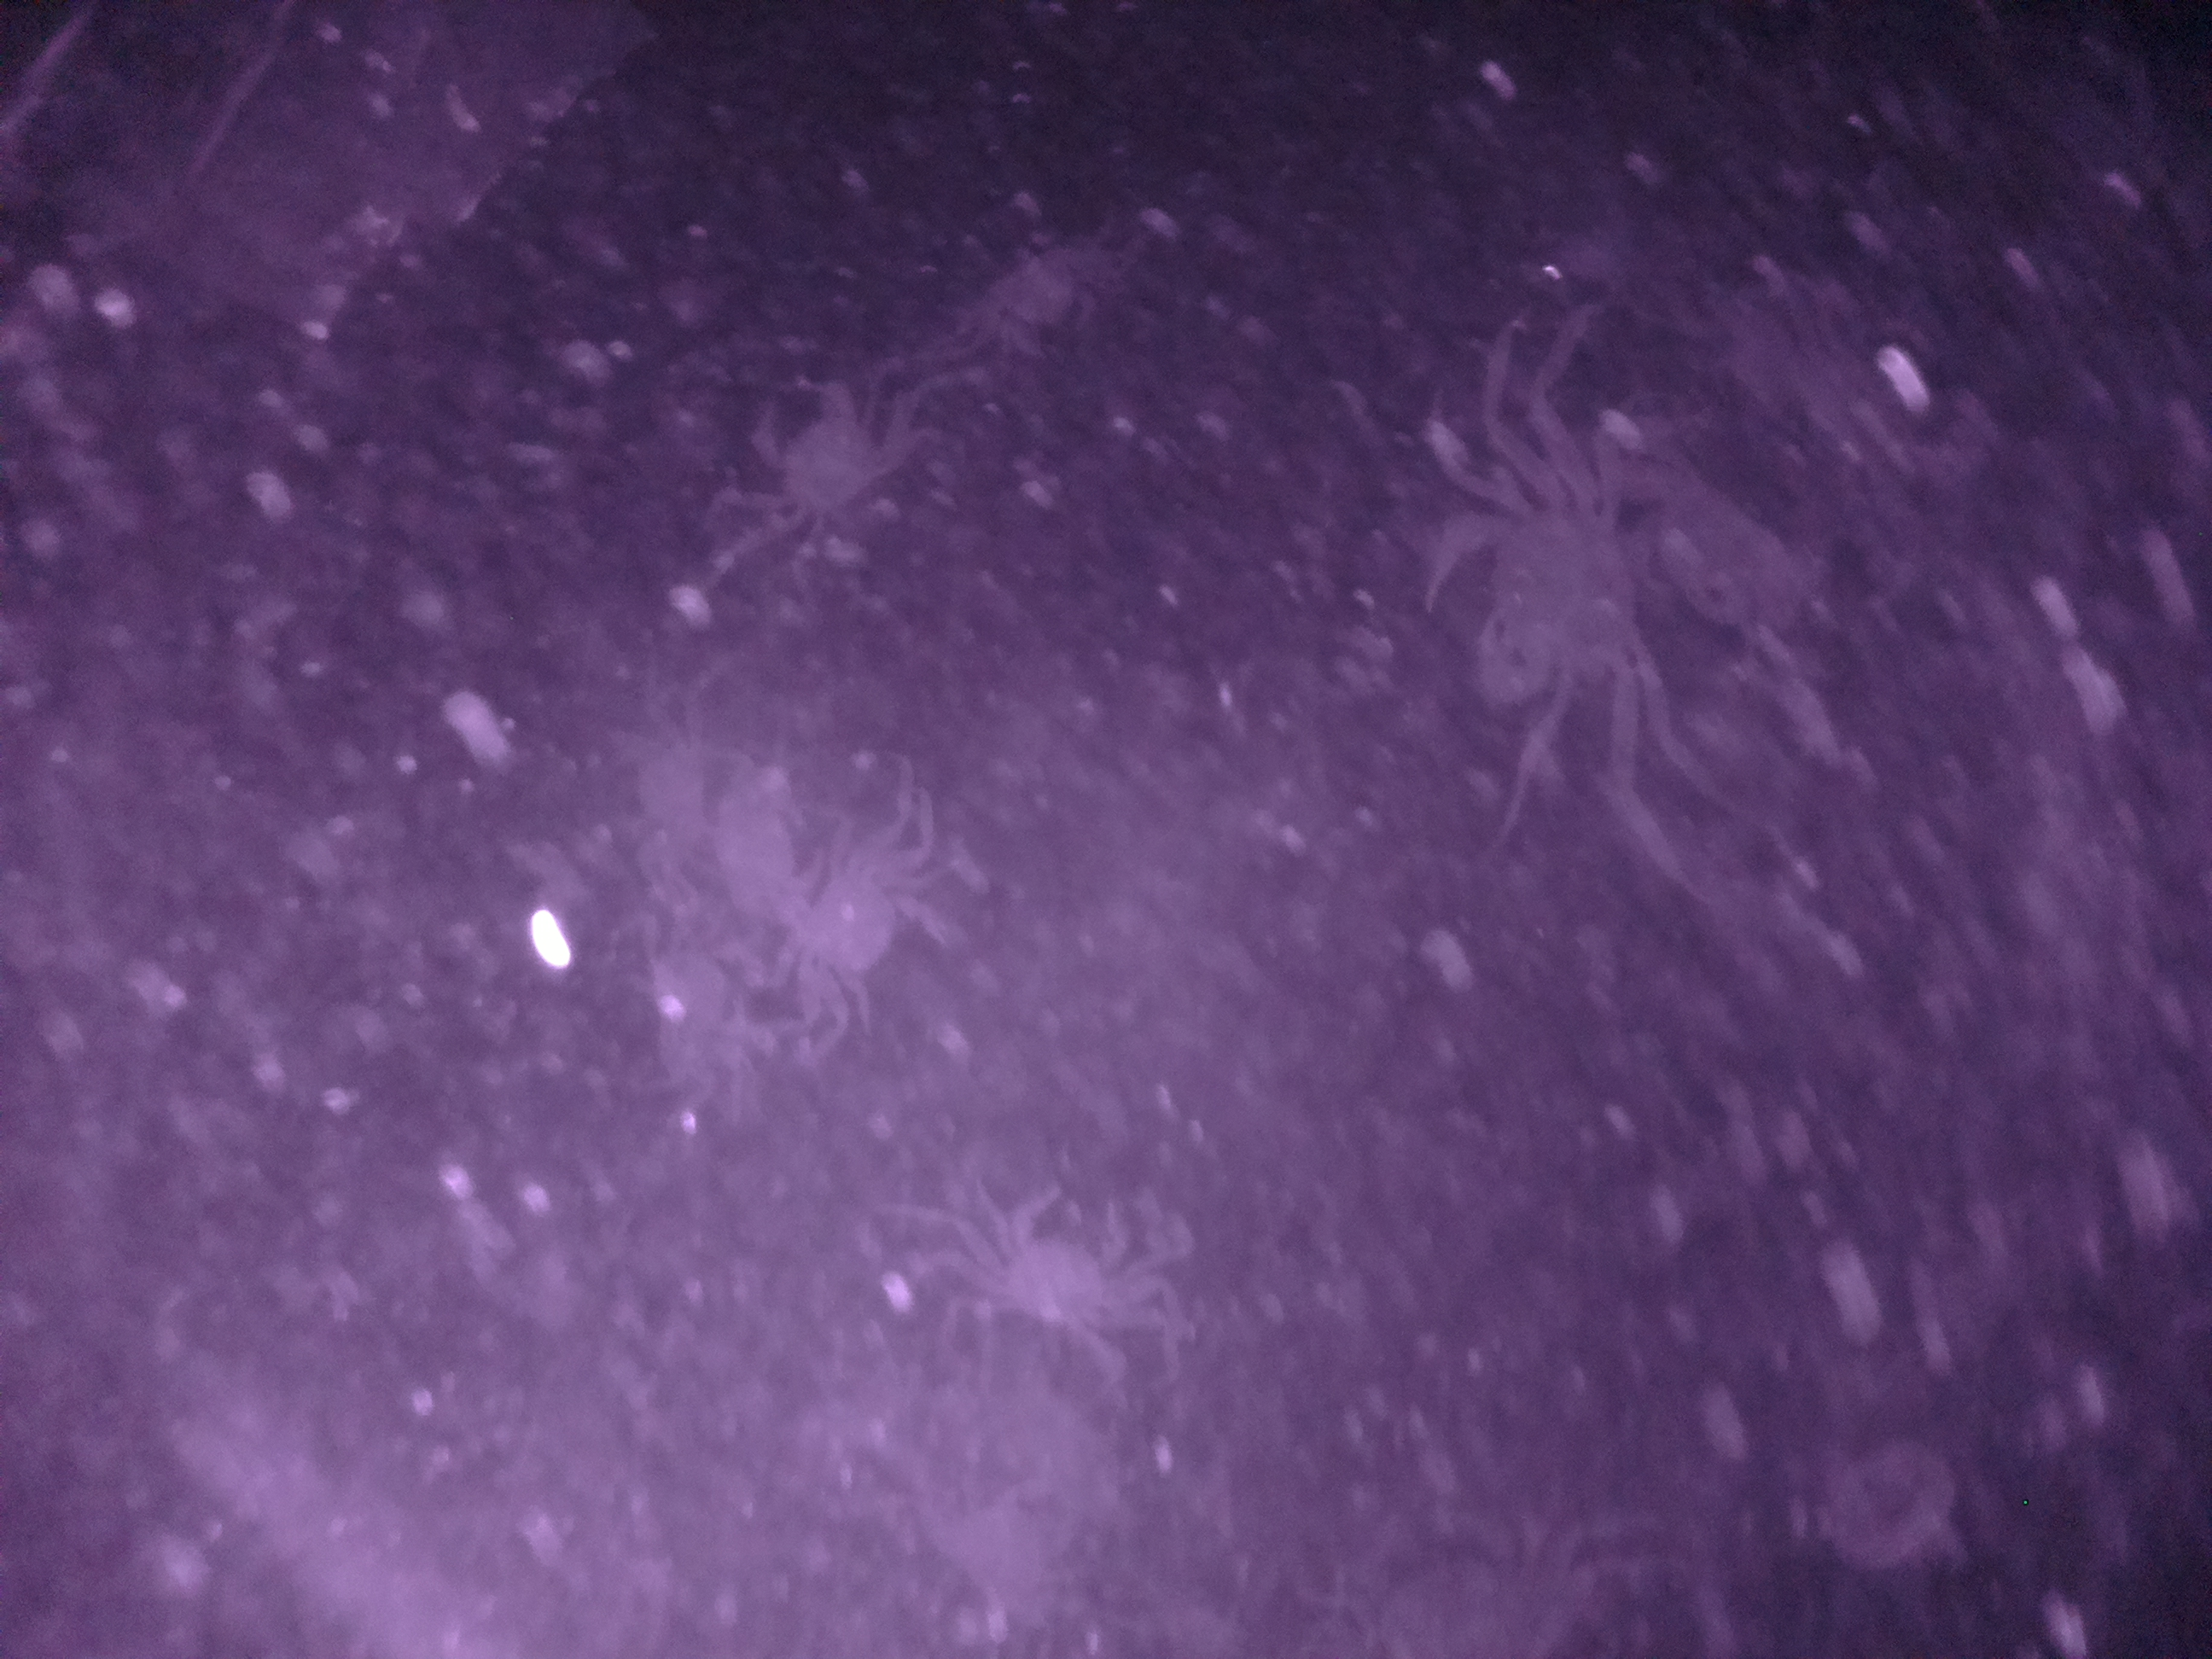Crab: (1390, 458, 1702, 762), (967, 1154, 1167, 1370), (728, 362, 925, 554)
